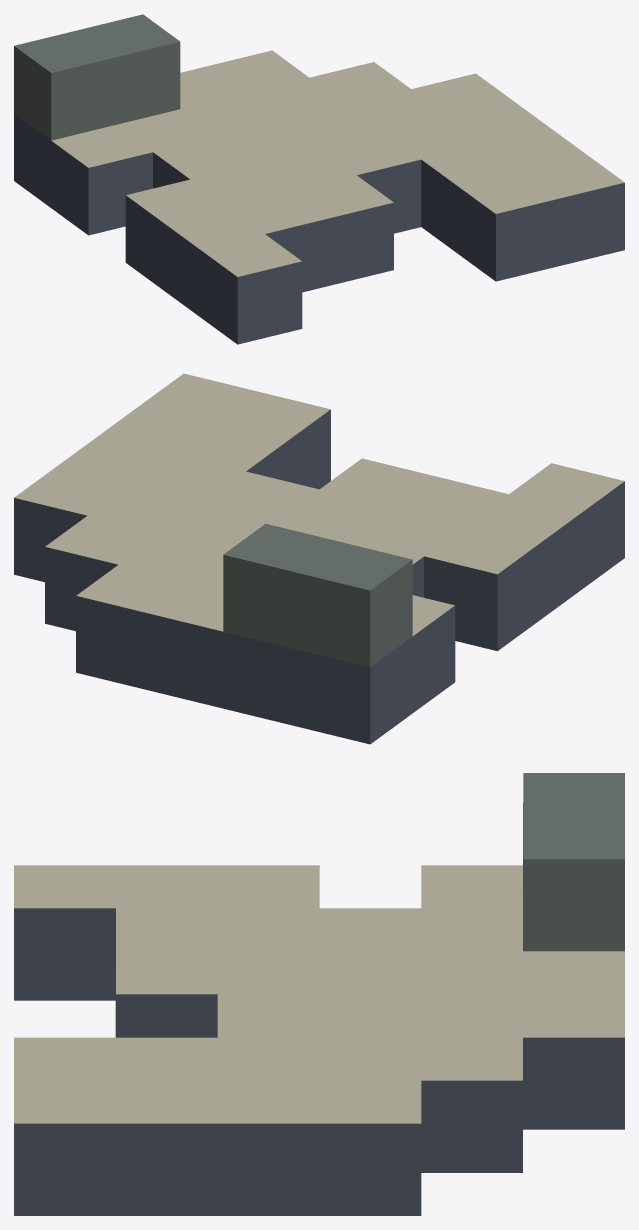
3 renders of one model, top to bottom at view 1: azimuth 30°, elevation 25°; view 2: azimuth 150°, elevation 25°; view 3: azimuth 270°, elevation 25°, orthographic. The views are drawn at different scales.
Visible parts, largest first — view 1: 3.2; view 2: 3.2; view 3: 3.2.
Boxes of the visible parts, <box> form: 3.2: <box>14,14,624,344</box>; 3.2: <box>14,373,624,744</box>; 3.2: <box>14,773,624,1215</box>.
Size of the model in its own units: 600 by 200 by 600.
